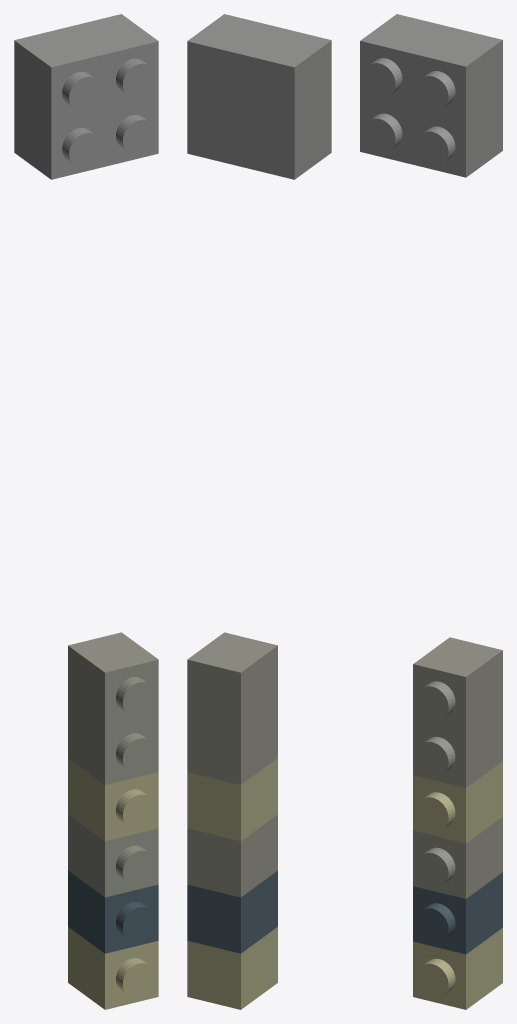
File: current.glb
The picture shows the model from 3 angles, left to right: view 1: azimuth 30°, elevation 25°; view 2: azimuth 150°, elevation 25°; view 3: azimuth 330°, elevation 25°; orthographic projection.
Visible parts, largest first — view 1: world; view 2: world; view 3: world.
Boxes of the visible parts, x1,y1,x2,y2 form: world: (14,14,158,1009); world: (187,14,331,1009); world: (360,14,502,1009).
Bounding box in the file's own units: 16 × 136 × 11.4.
